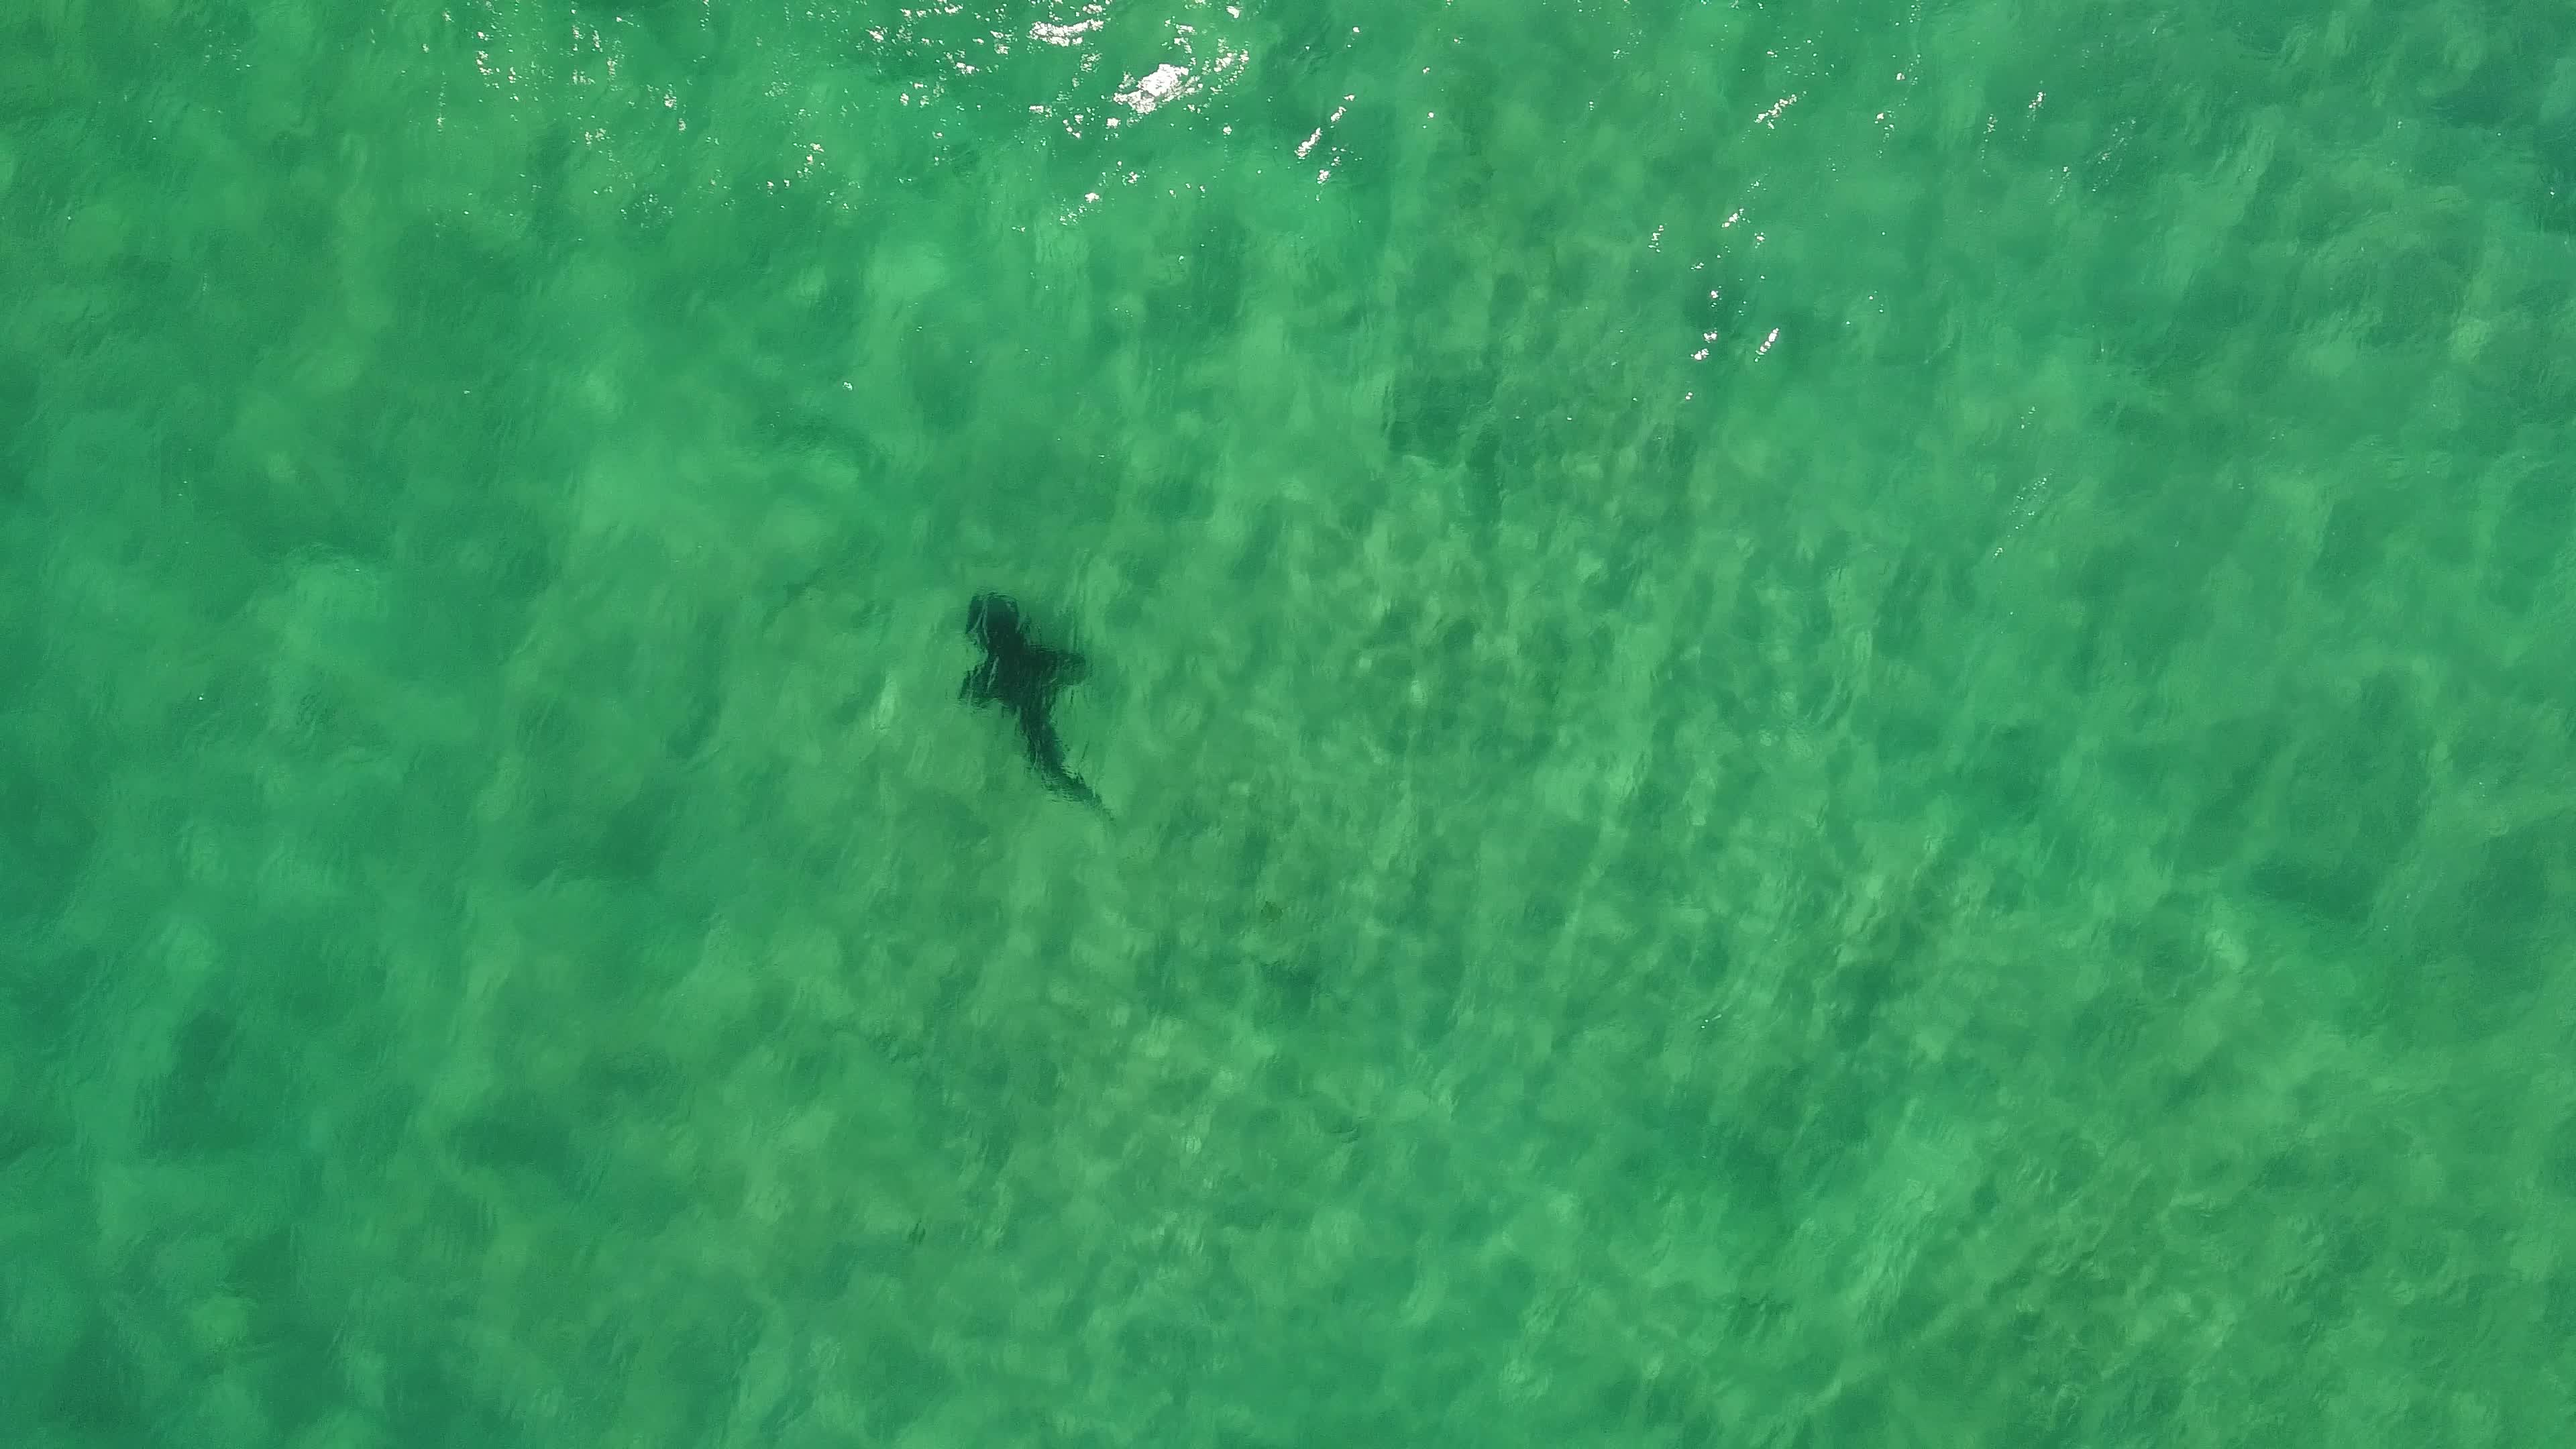shark: (945, 584, 1129, 830)
